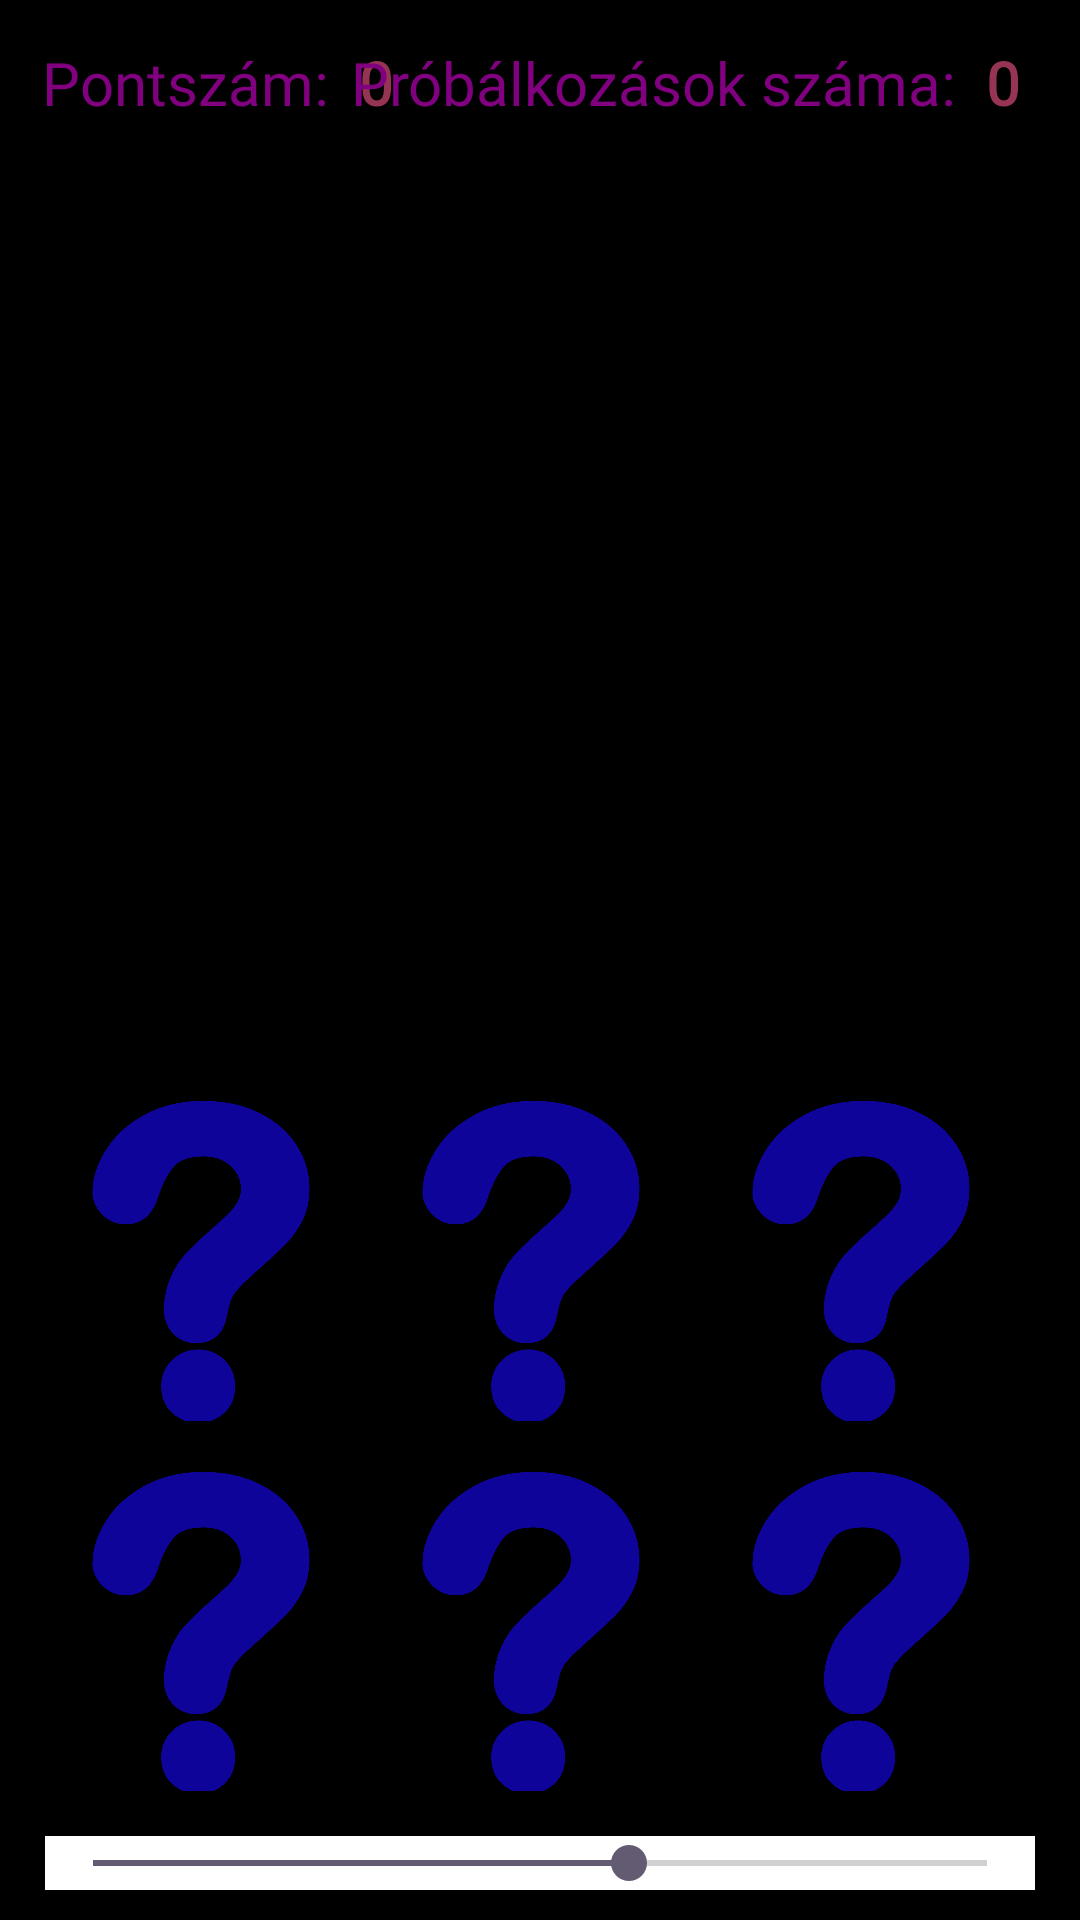

Locate icon controls on the screen. Image size 1080×1920, boxes as (x1, y1, x2, y2).
kerdojel: (92, 1101, 310, 1421), (422, 1101, 640, 1421), (752, 1101, 970, 1421), (92, 1472, 310, 1791), (422, 1472, 640, 1791), (752, 1472, 970, 1791)
